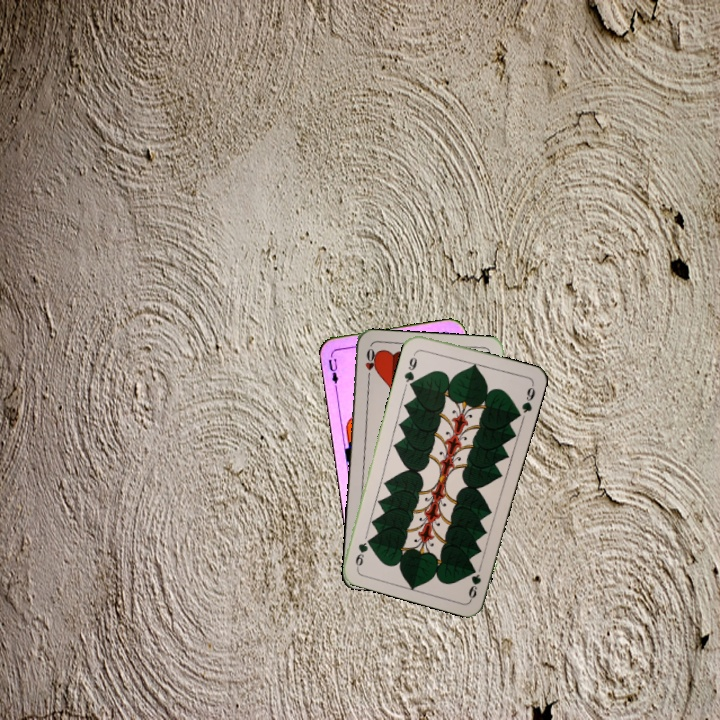EU: (324, 354, 343, 391)
G9: (400, 348, 420, 389), (464, 563, 484, 602)
HO: (361, 344, 378, 385)
